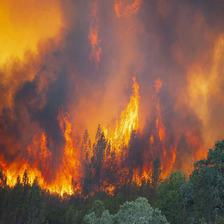fire: (7, 93, 209, 190)
